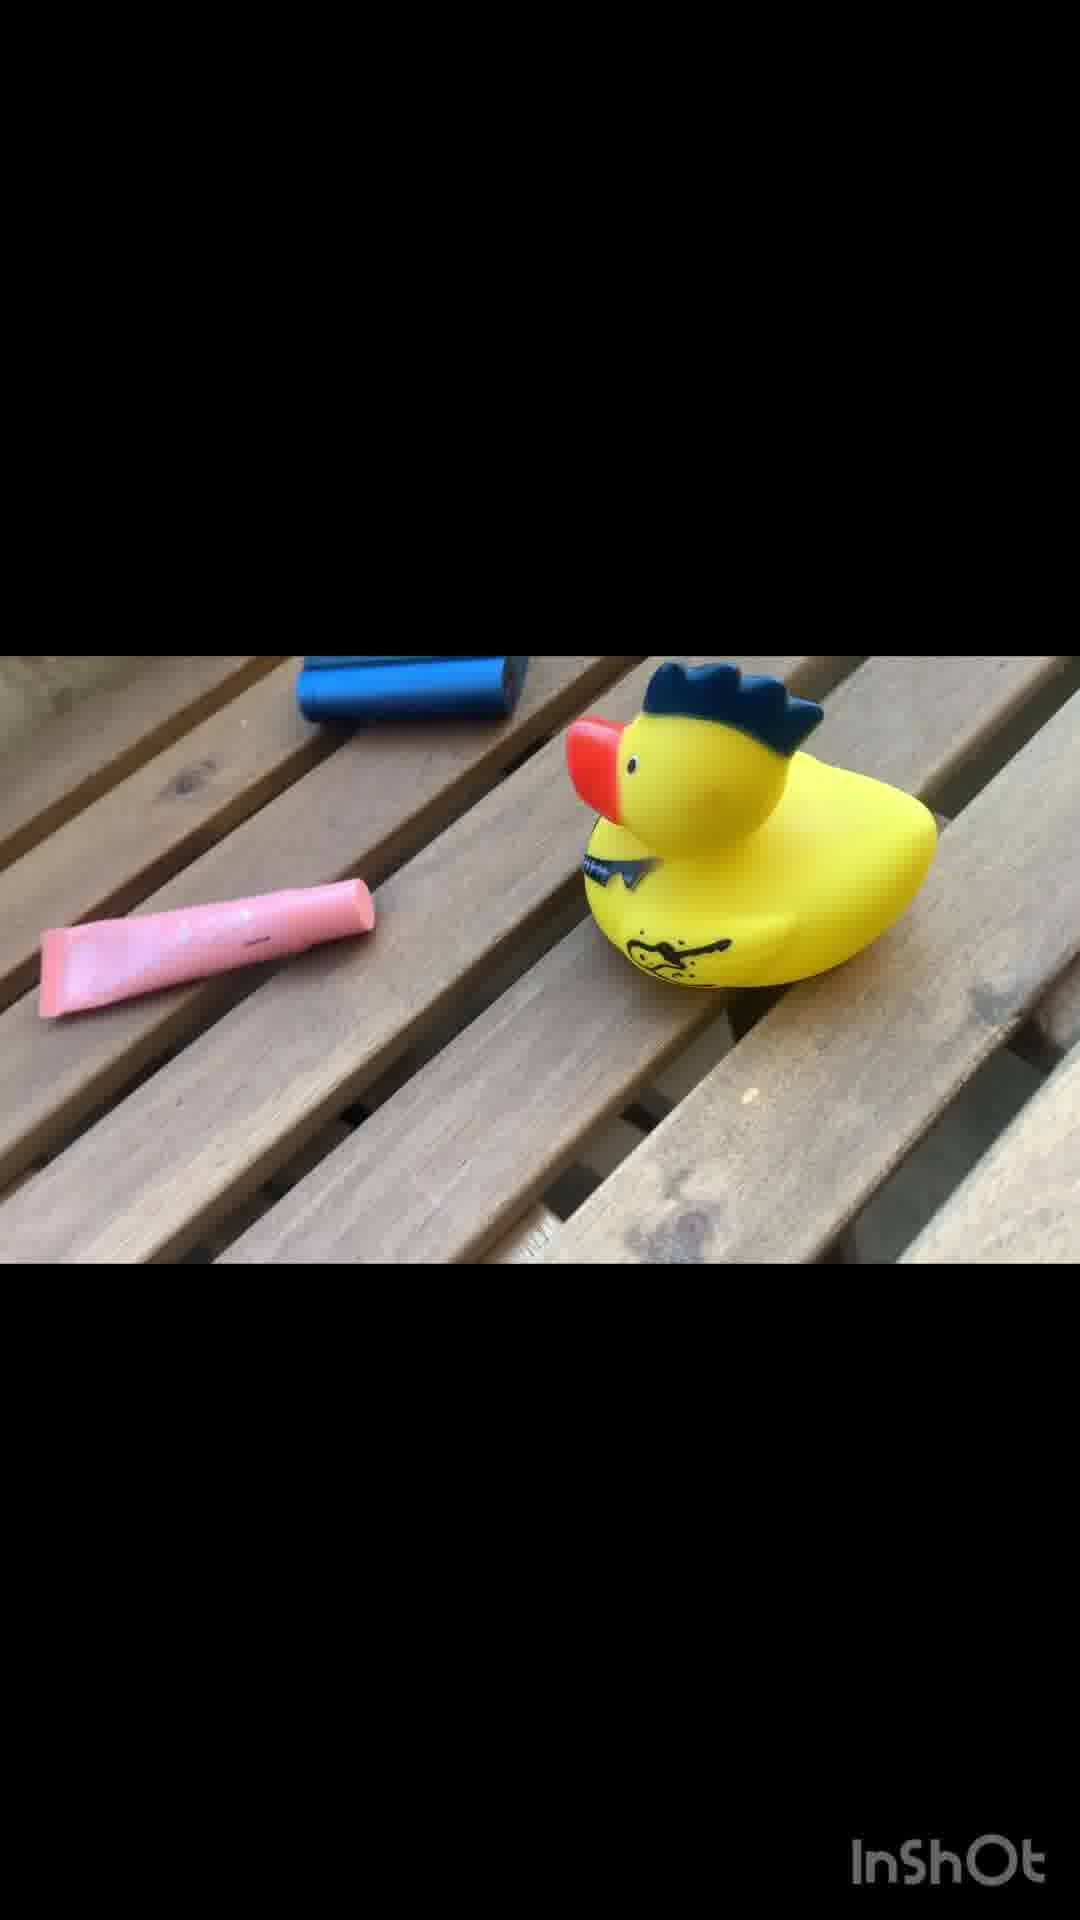duck: (551, 665, 945, 993)
glo: (295, 651, 526, 727)
lip balm: (33, 872, 382, 1021)
